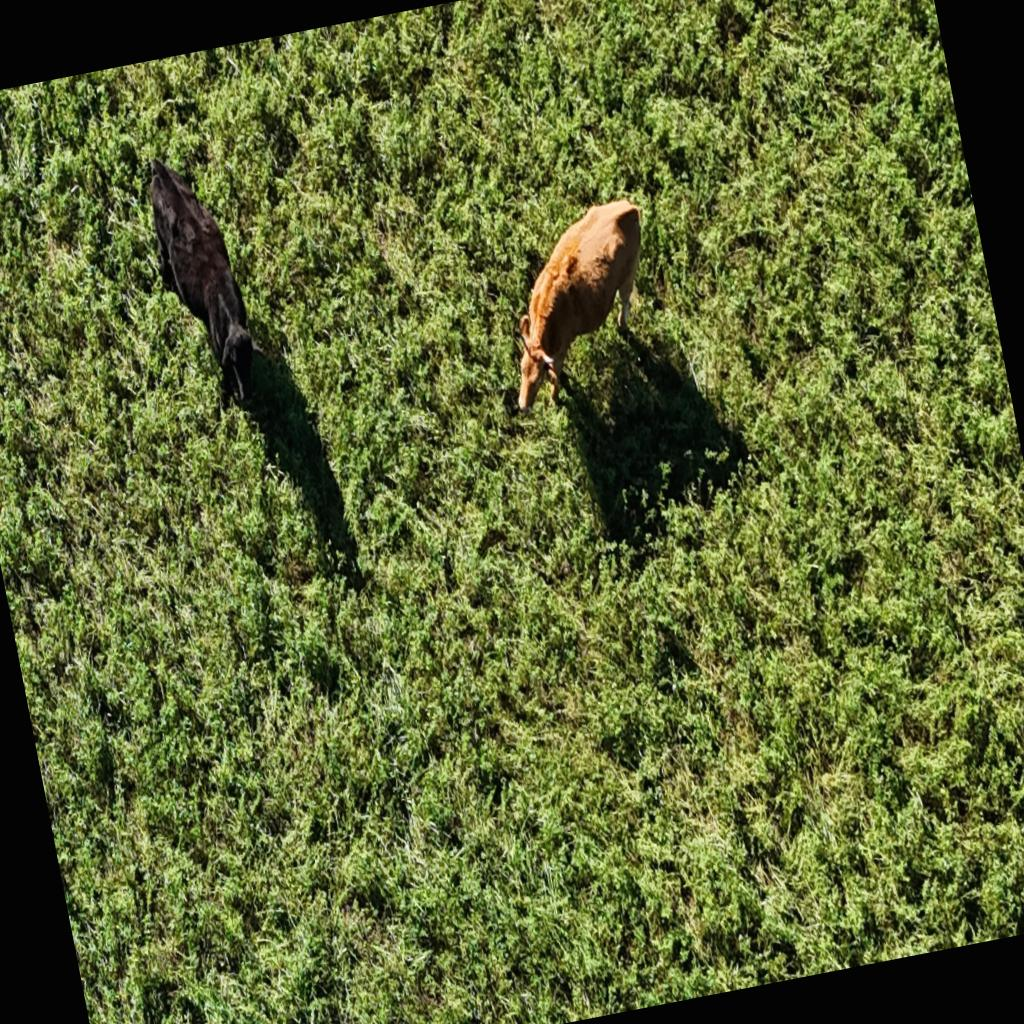cow: (474, 184, 682, 430), (136, 145, 273, 419)
